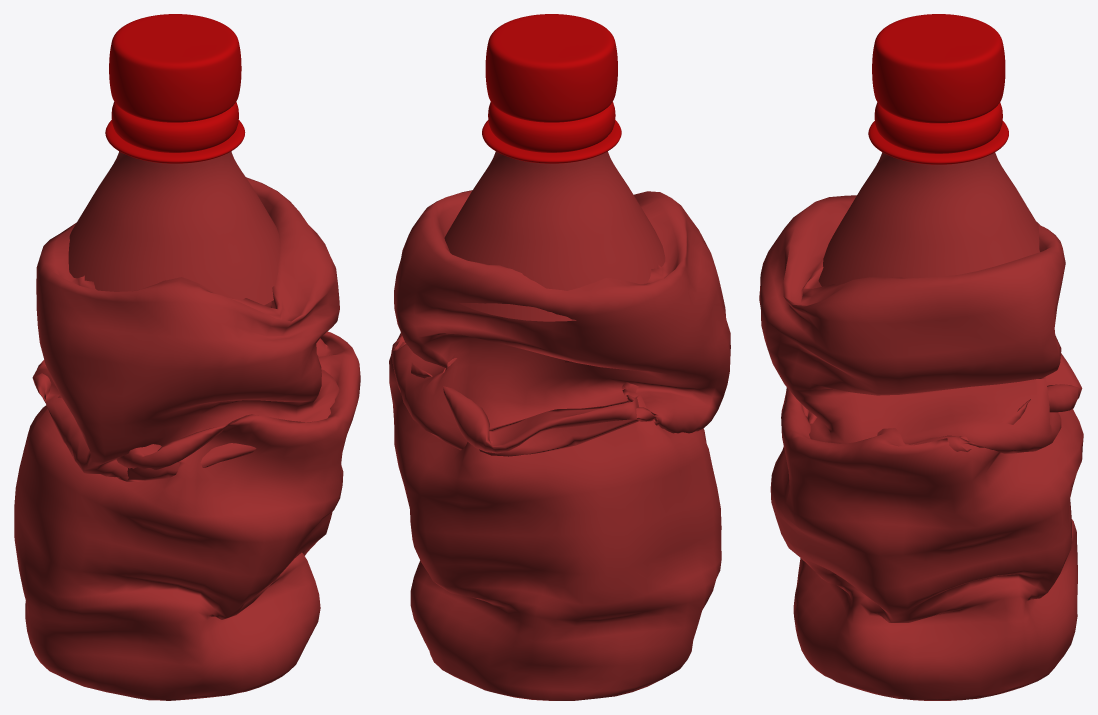
The model's file is WaterBottle.fbx.
The picture shows the model from 3 angles, left to right: view 1: azimuth 30°, elevation 25°; view 2: azimuth 150°, elevation 25°; view 3: azimuth 270°, elevation 25°; orthographic projection.
Visible parts, largest first — view 1: Crushed_Bottle2; view 2: Crushed_Bottle2; view 3: Crushed_Bottle2.
Part boxes in pixels (bbox=[...]): Crushed_Bottle2: bbox=[14, 14, 360, 700]; Crushed_Bottle2: bbox=[389, 14, 730, 700]; Crushed_Bottle2: bbox=[759, 14, 1083, 700].
Size of the model in its own units: 118 by 223 by 107.
